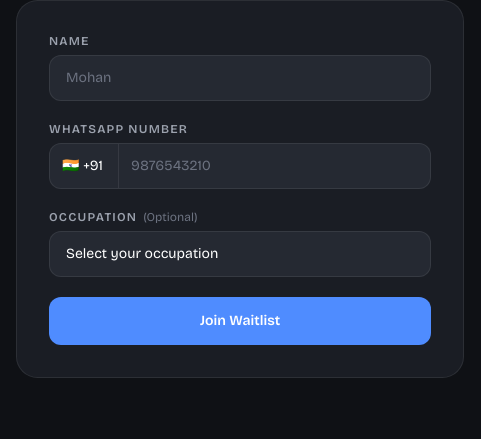
it: WaitlistForm — validation › shows error when name is empty on submit
The image size is (481, 439).
Step 1. Click the button "Join Waitlist" → (240, 321), box x1=49 y1=297 x2=431 y2=345
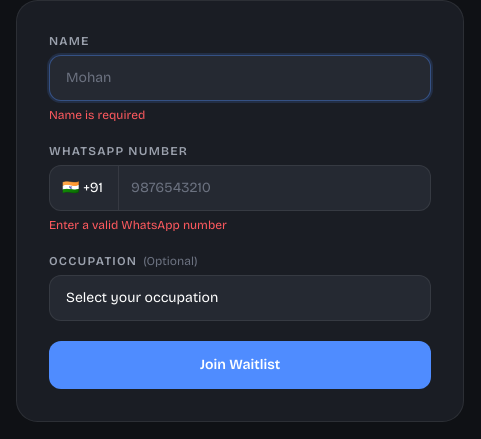
Now the text "Name is required" is shown, box x1=49 y1=108 x2=145 y2=122
